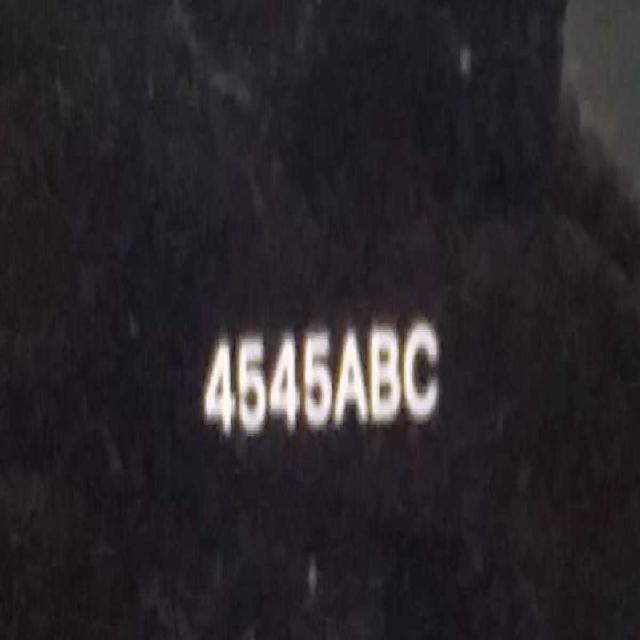license_plate: (202, 309, 447, 458)
